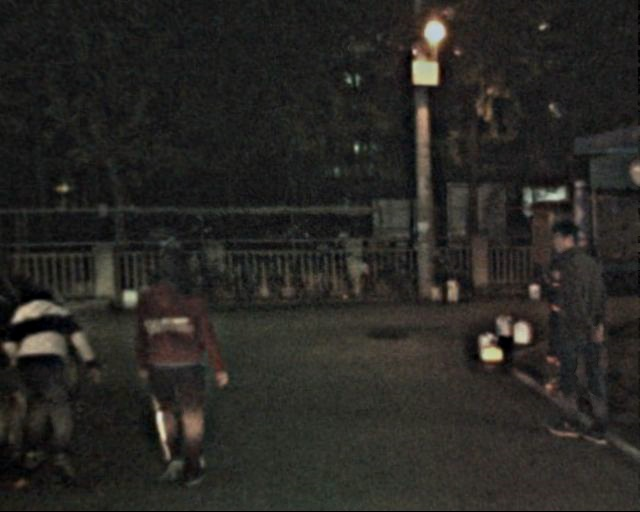person: (135, 248, 227, 484), (15, 267, 101, 475), (540, 214, 615, 442)
